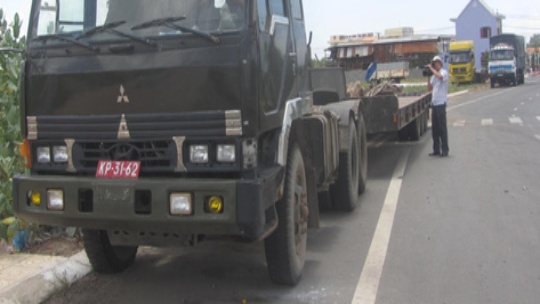plate: (91, 160, 145, 179)
